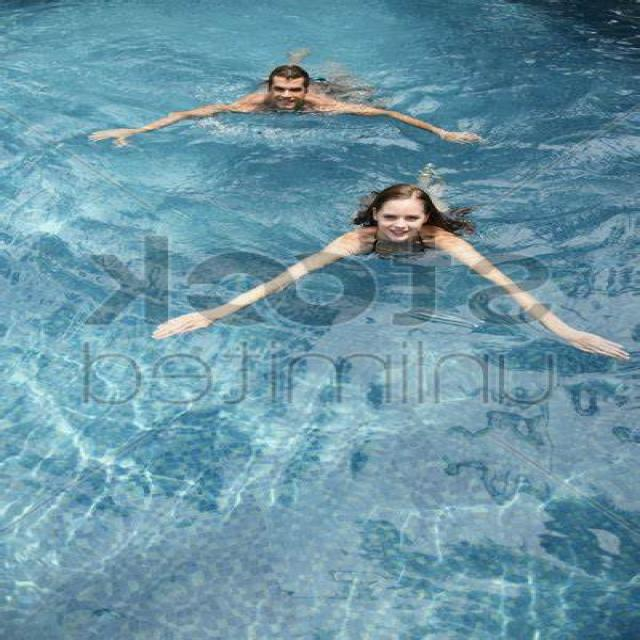swimming: (155, 170, 573, 347), (72, 52, 504, 167)
